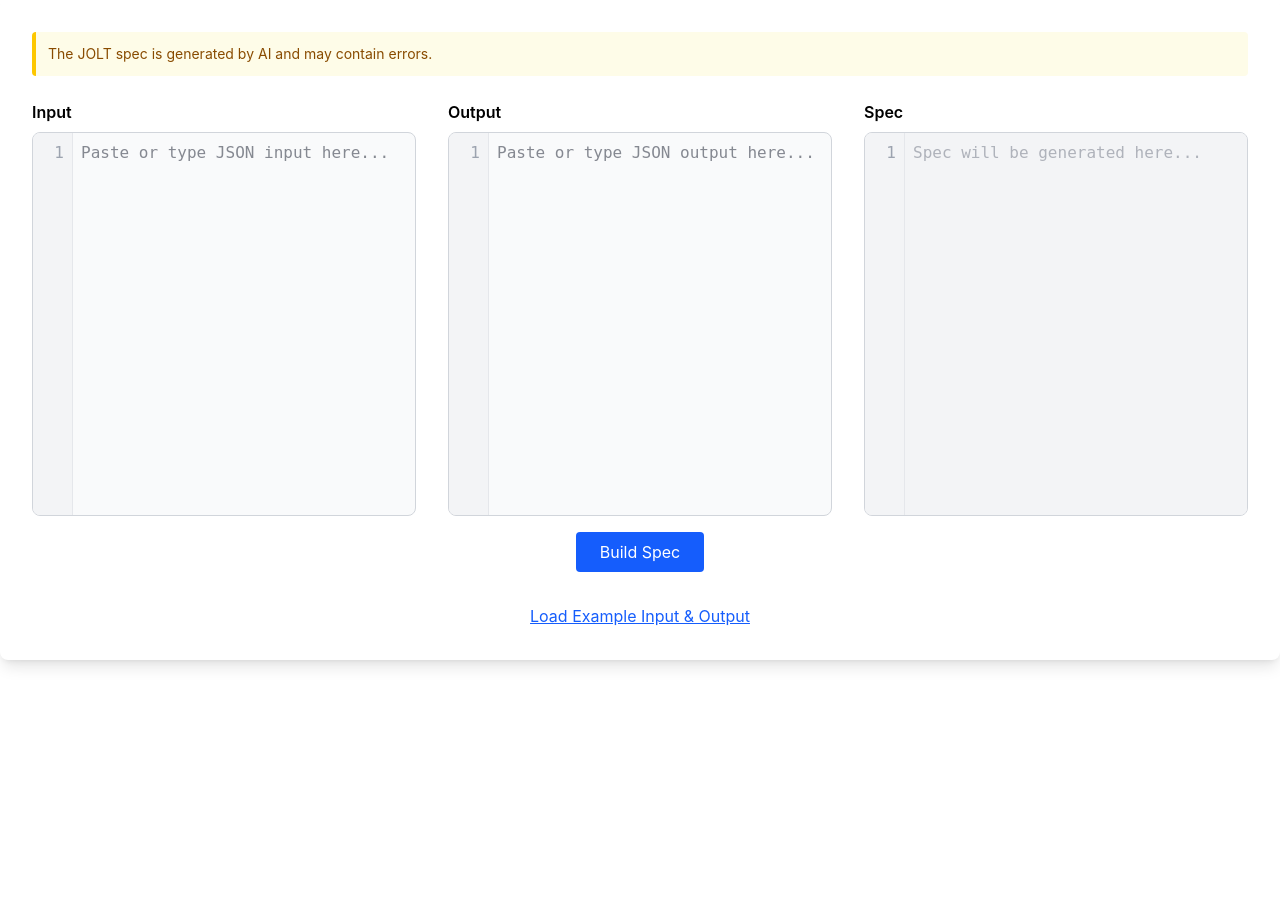
Test case: BuildPage › shows an error when input is invalid JSON
Type "not-json" into the text box labelled "Input" at (244, 324), box [73,133,415,515]
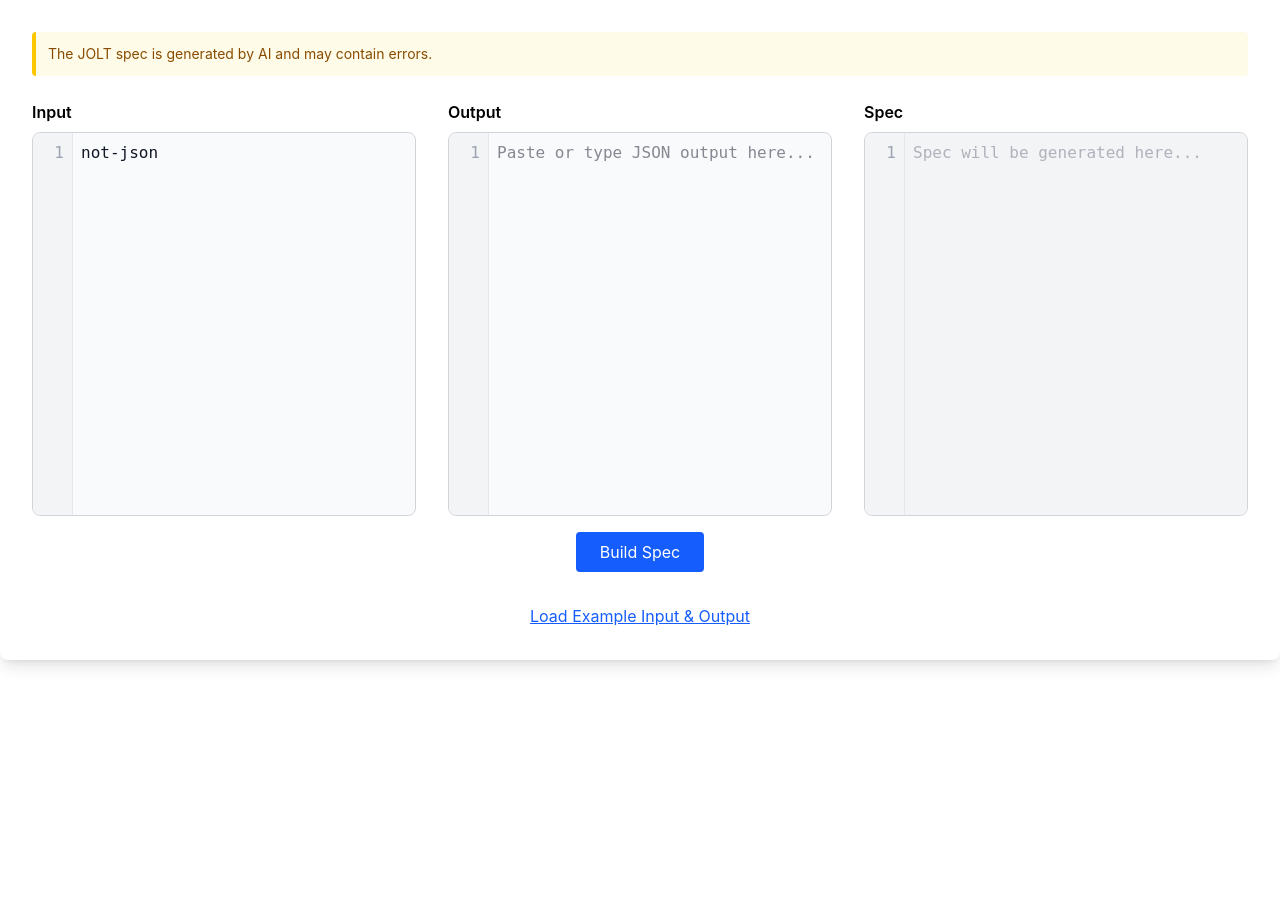
Click the button "Build Spec" at (640, 552), box [576,532,704,572]
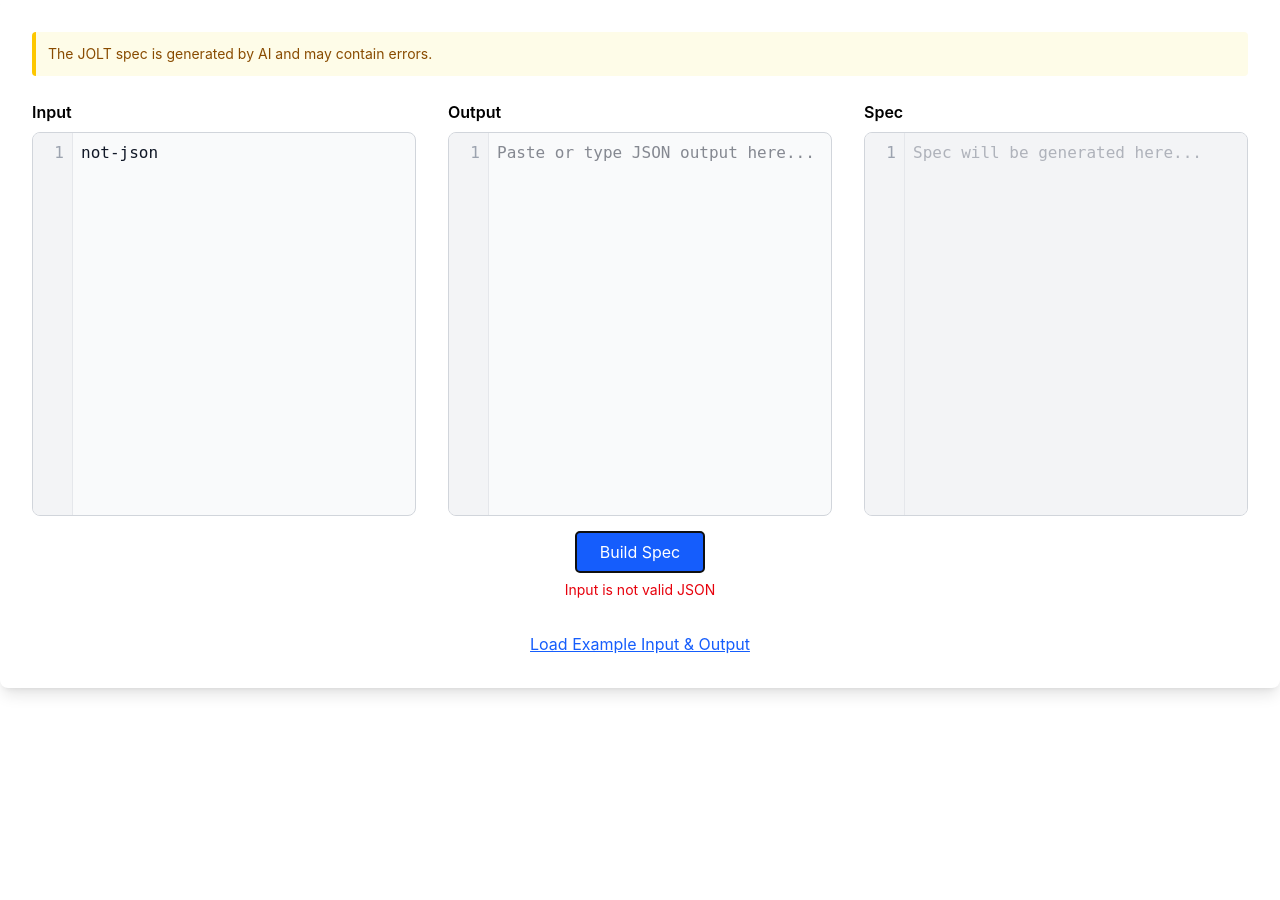
Expected: the text "Input is not valid JSON" is shown, [565,580,715,600]
